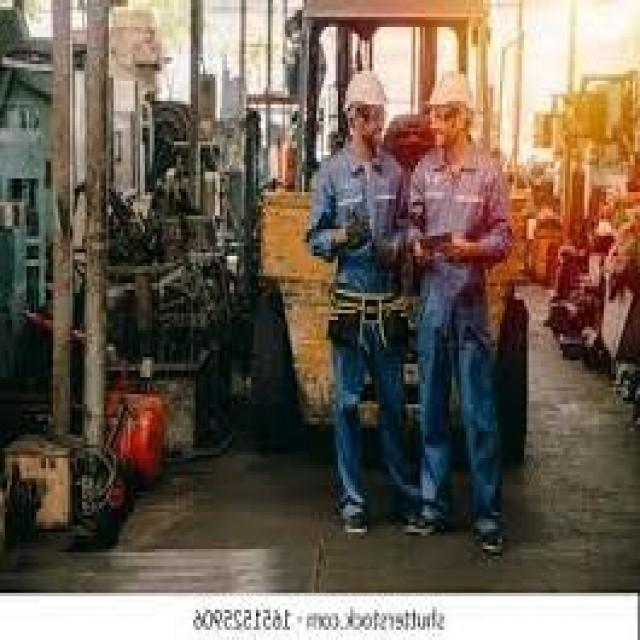Reflective-Jacket: (403, 138, 522, 354), (307, 142, 413, 340)
Safety-Helmet: (333, 60, 396, 124), (418, 64, 480, 128)
